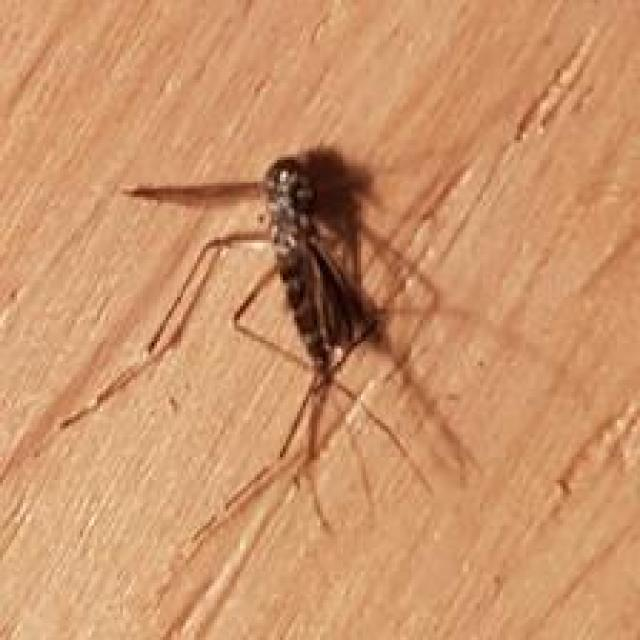Aedes albopictus: (58, 150, 476, 576)
